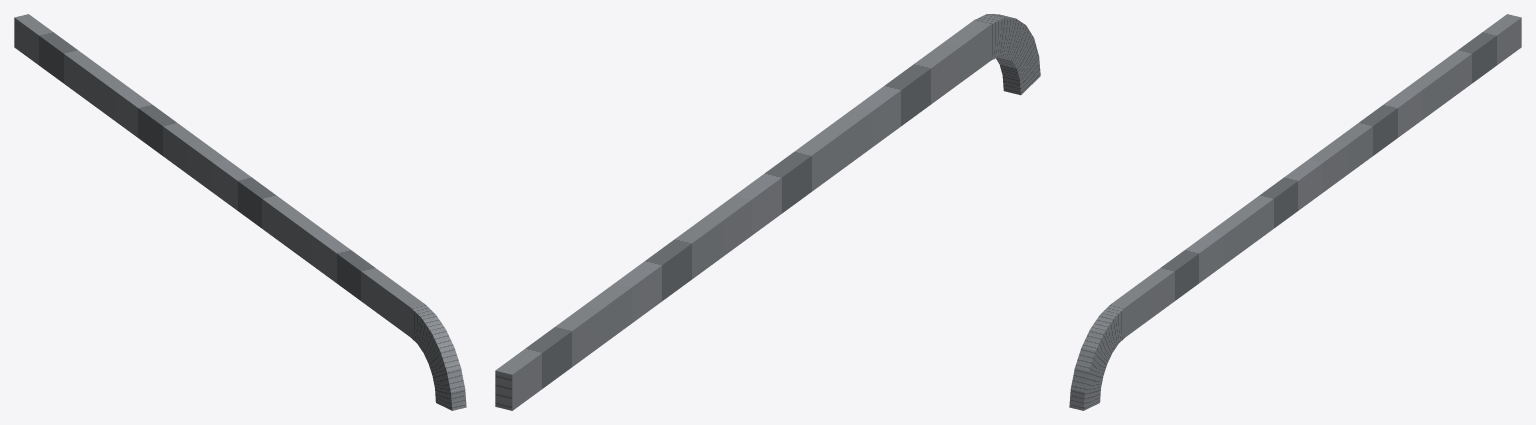
The model's file is sectional_track_ccw_4.obj.
The picture shows the model from 3 angles, left to right: view 1: azimuth 30°, elevation 25°; view 2: azimuth 150°, elevation 25°; view 3: azimuth 330°, elevation 25°; orthographic projection. The views are drawn at different scales.
Visible parts, largest first — view 1: track; view 2: track; view 3: track.
Boxes of the visible parts, bbox=[...] form: track: bbox=[14, 14, 466, 410]; track: bbox=[495, 14, 1040, 410]; track: bbox=[1069, 14, 1521, 410].
Size of the model in its own units: 0.0938 by 0.481 by 4.97.
